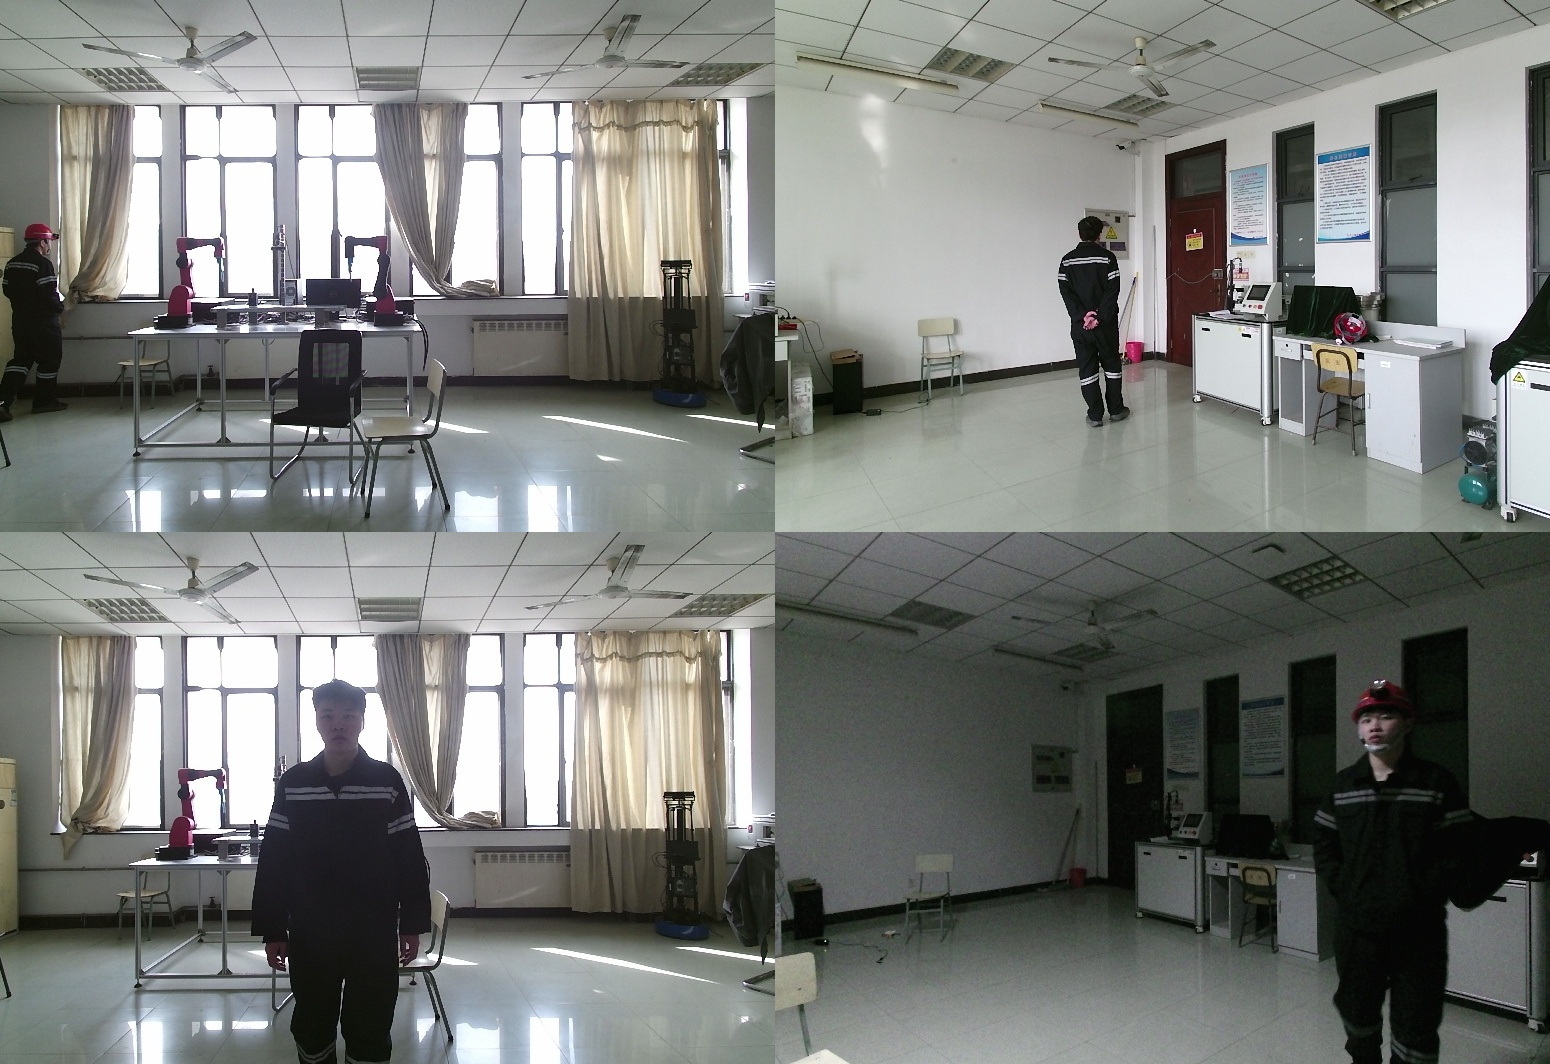person: (1300, 670, 1514, 1064), (255, 681, 442, 1064), (1054, 215, 1135, 432), (4, 226, 71, 412)
